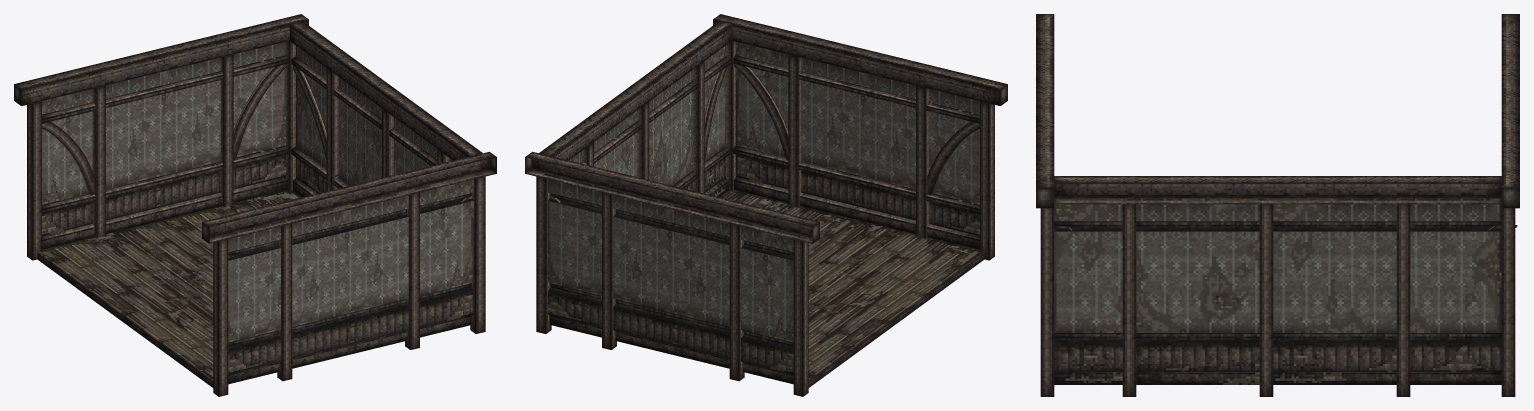
File: EnvBdgMD_City_D_Indoor_Inn.FBX
3 views of the same model, side by side, from view 1: azimuth 30°, elevation 25°; view 2: azimuth 150°, elevation 25°; view 3: azimuth 270°, elevation 25° (orthographic). The views are drawn at different scales.
Parts seen in each view (by area): view 1: EnvBdgMD_City_D_Indoor_Inn; view 2: EnvBdgMD_City_D_Indoor_Inn; view 3: EnvBdgMD_City_D_Indoor_Inn.
Boxes of the visible parts, x1=… form: EnvBdgMD_City_D_Indoor_Inn: x1=14, y1=14, x2=496, y2=396; EnvBdgMD_City_D_Indoor_Inn: x1=525, y1=14, x2=1007, y2=396; EnvBdgMD_City_D_Indoor_Inn: x1=1036, y1=14, x2=1519, y2=396.
Size of the model in its own units: 900 by 520 by 1060.
